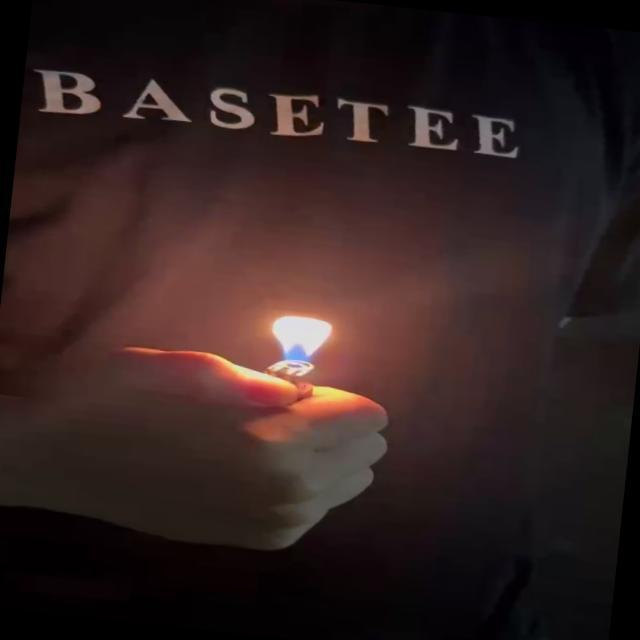Fire: (271, 311, 337, 367)
